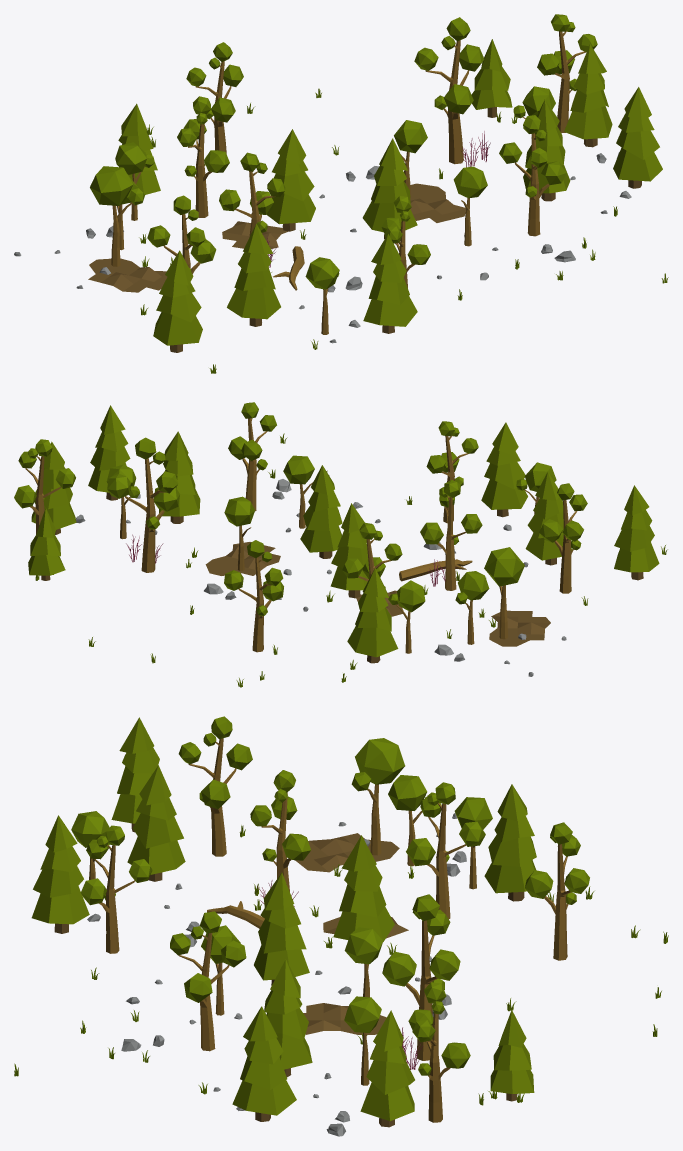
The model's file is present day trees.gltf.
The picture shows the model from 3 angles, top to bottom: view 1: azimuth 30°, elevation 25°; view 2: azimuth 150°, elevation 25°; view 3: azimuth 270°, elevation 25°; orthographic projection. The views are drawn at different scales.
Visible parts, largest first — view 1: present day trees; view 2: present day trees; view 3: present day trees.
Boxes of the visible parts, box(x1,y1,x2,y2) form: present day trees: box(14, 14, 668, 373); present day trees: box(14, 402, 667, 687); present day trees: box(14, 716, 668, 1136).
Size of the model in its own units: 102 by 24.17 by 88.32.
